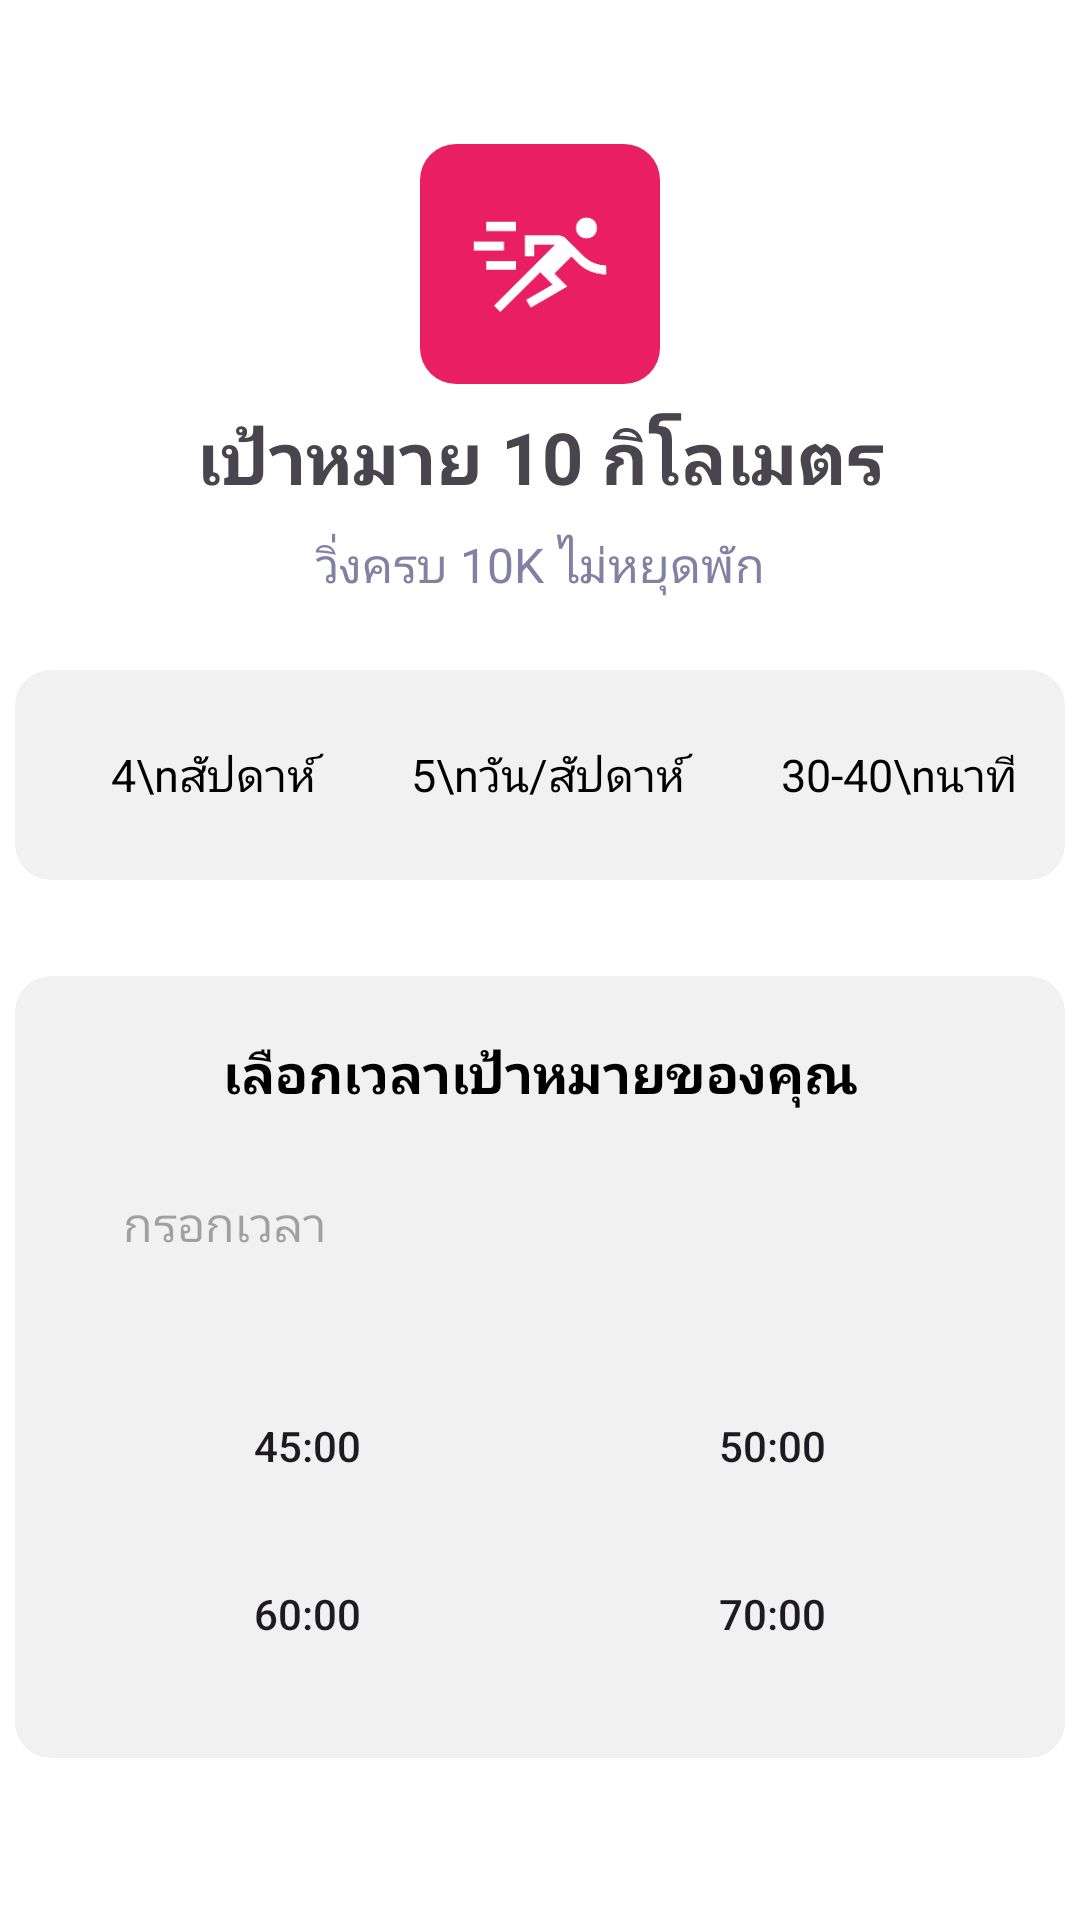

Named icons in this screenshot (1080 x 1920) and their bounding boxes, region(x1, y1, x2, y2):
sprint: region(473, 217, 607, 312)
